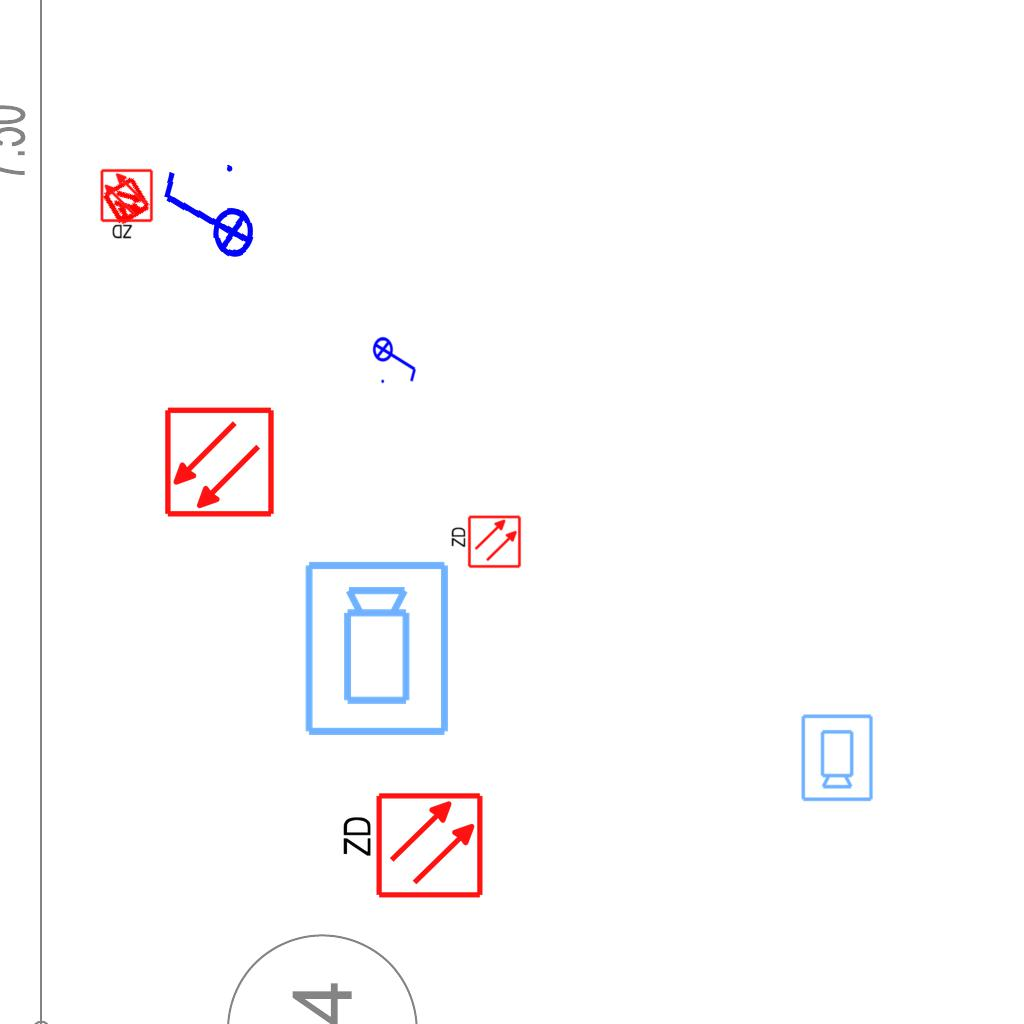Ausschalter_beleuchtet: (154, 157, 258, 277), (372, 330, 420, 386)
KFO_Kamera_mit_Festobjektiv: (301, 558, 455, 740), (798, 712, 875, 803)
OT_Multisensormelder_(Kombination_RMO_WMD): (88, 163, 166, 241)
RMO_Rauchmelder_optischer: (163, 406, 276, 519)
ZD_Melder_in_Zwischendecke_mit_Revisionsoeffnung_mind_40_x_40_cm: (336, 790, 485, 904), (448, 514, 522, 571), (99, 168, 156, 242)
